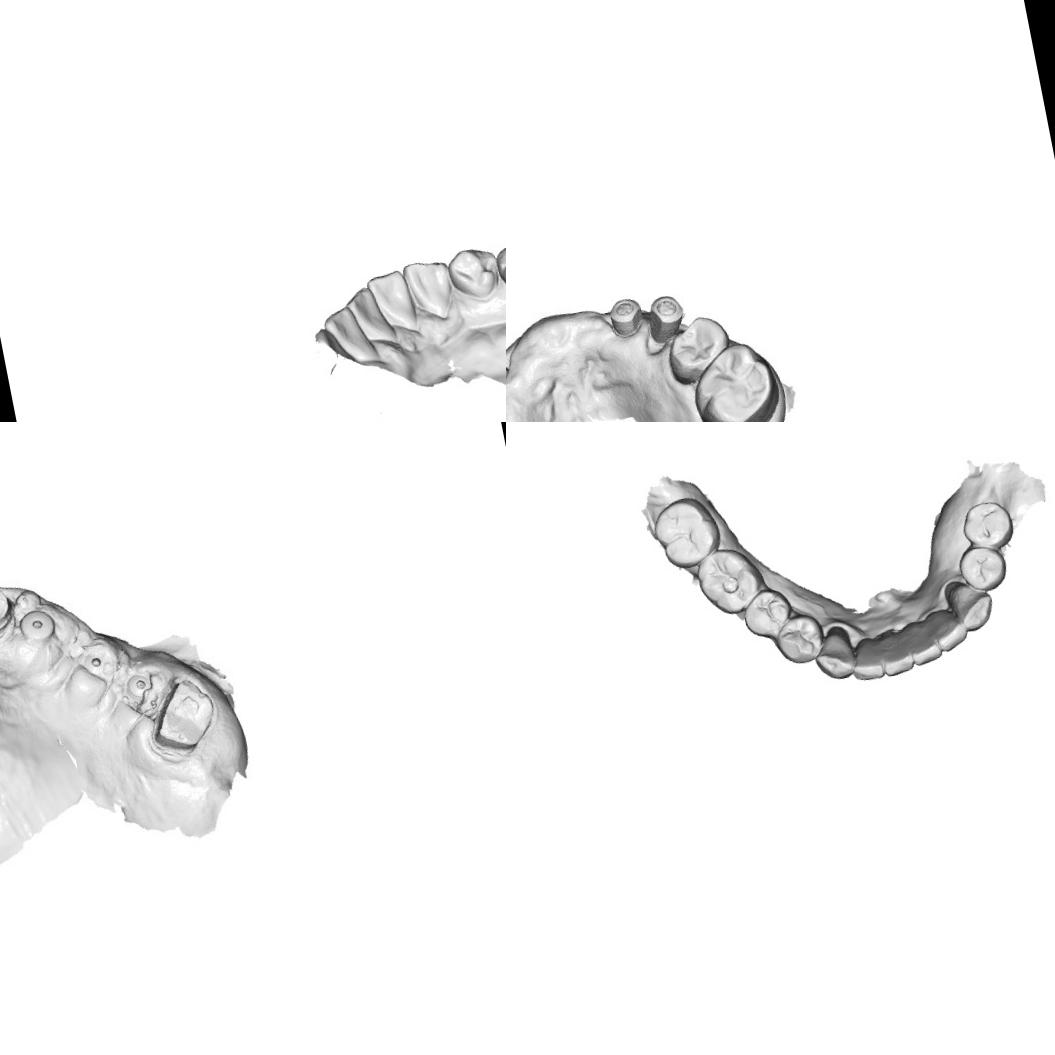canine: (399, 254, 460, 326), (941, 574, 997, 636), (808, 622, 859, 684)
crown: (139, 668, 226, 760), (0, 584, 18, 638)
implant: (68, 632, 122, 689), (603, 288, 644, 345), (15, 596, 59, 646), (644, 289, 684, 331), (122, 664, 159, 704)
incisor: (364, 267, 420, 339), (924, 604, 970, 654), (876, 627, 916, 678), (340, 282, 382, 330), (846, 634, 886, 684), (904, 616, 944, 666), (320, 301, 360, 348)
molar: (682, 338, 787, 422), (648, 492, 725, 572), (692, 541, 769, 619)
premolar: (659, 306, 736, 386), (443, 242, 504, 305), (957, 496, 1017, 555), (739, 582, 796, 642), (771, 610, 828, 667), (954, 539, 1011, 596), (491, 235, 506, 298)
